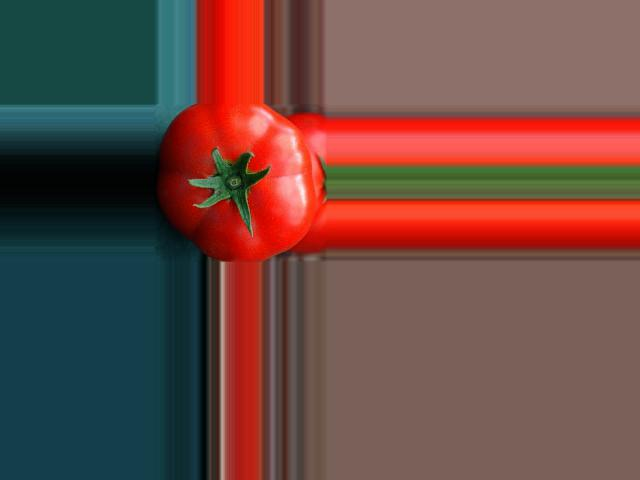tomato: (157, 103, 316, 263)
